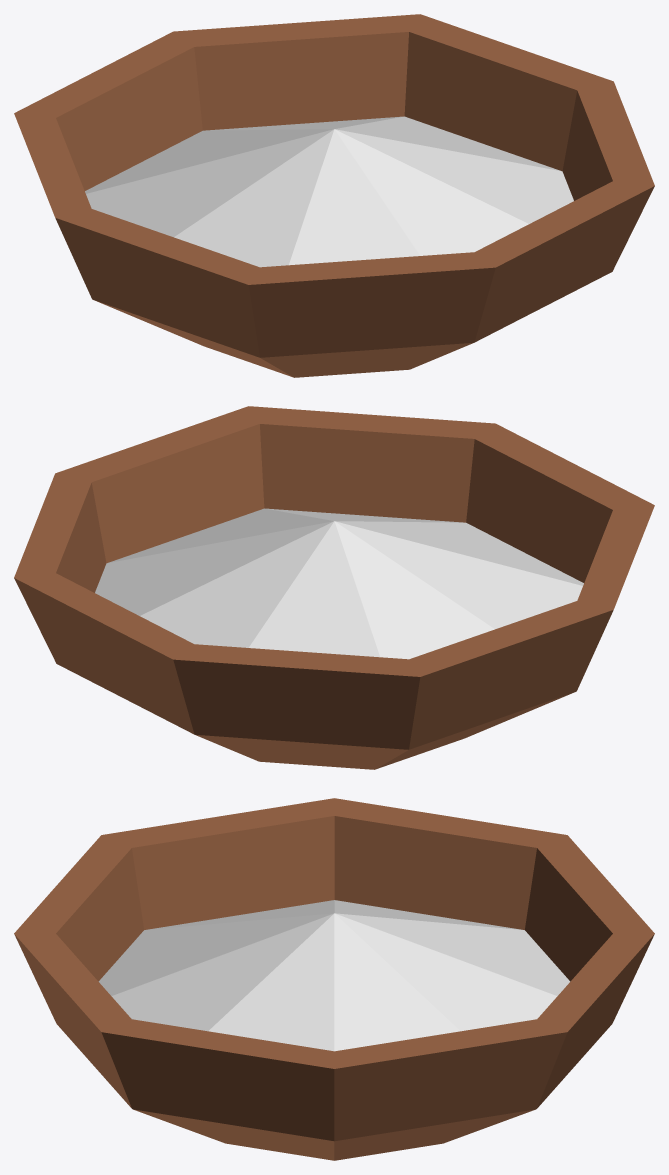
Rendered from Sugar.fbx.
3 views of the same model, one above another, from view 1: azimuth 30°, elevation 25°; view 2: azimuth 150°, elevation 25°; view 3: azimuth 270°, elevation 25° (orthographic).
Parts seen in each view (by area): view 1: Sugar; view 2: Sugar; view 3: Sugar.
Boxes of the visible parts, x1,y1,x2,y2 form: Sugar: (14,14,654,377); Sugar: (14,406,654,769); Sugar: (14,798,654,1160).
Size of the model in its own units: 41.24 by 13.08 by 41.24.
